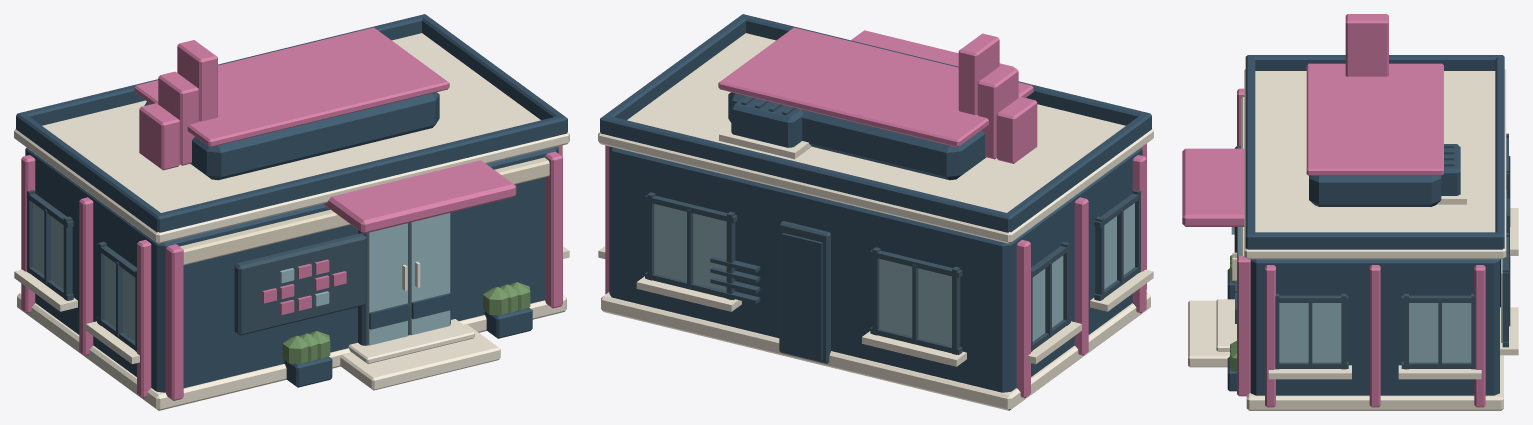
Rendered from gaming-l01.glb.
The picture shows the model from 3 angles, left to right: view 1: azimuth 30°, elevation 25°; view 2: azimuth 150°, elevation 25°; view 3: azimuth 270°, elevation 25°; orthographic projection. The views are drawn at different scales.
Parts seen in each view (by area): view 1: gaming_L01; view 2: gaming_L01; view 3: gaming_L01.
Boxes of the visible parts, box(x1,y1,x2,y2) form: gaming_L01: box(14, 14, 569, 410); gaming_L01: box(598, 14, 1153, 410); gaming_L01: box(1182, 14, 1518, 410).
Bounding box in the file's own units: 5.77 × 3.63 × 4.24.
